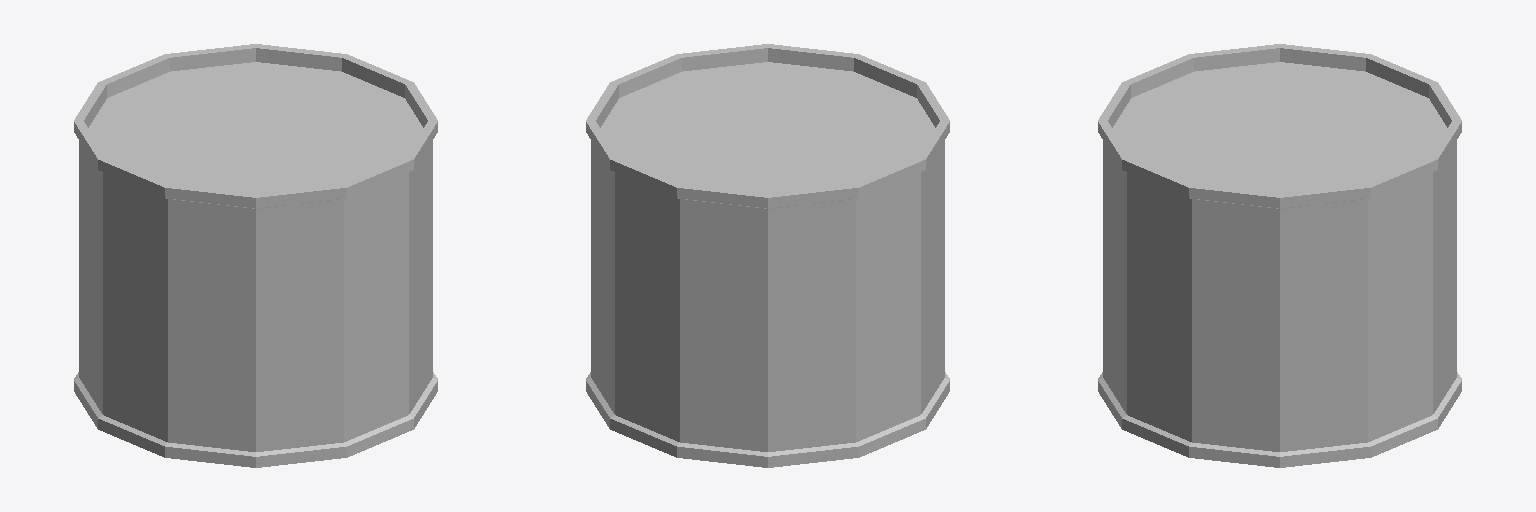
The model's file is condensed milk(can).obj.
The picture shows the model from 3 angles: view 1: azimuth 30°, elevation 25°; view 2: azimuth 150°, elevation 25°; view 3: azimuth 270°, elevation 25°; orthographic projection.
Parts seen in each view (by area): view 1: pCylinder2 group1; view 2: pCylinder2 group1; view 3: pCylinder2 group1.
Part boxes in pixels (left/top/right/bottom): pCylinder2 group1: left=74, top=44, right=437, bottom=467; pCylinder2 group1: left=586, top=44, right=949, bottom=467; pCylinder2 group1: left=1098, top=44, right=1461, bottom=467.
Bounding box in the file's own units: 27.07 × 22.13 × 27.07.